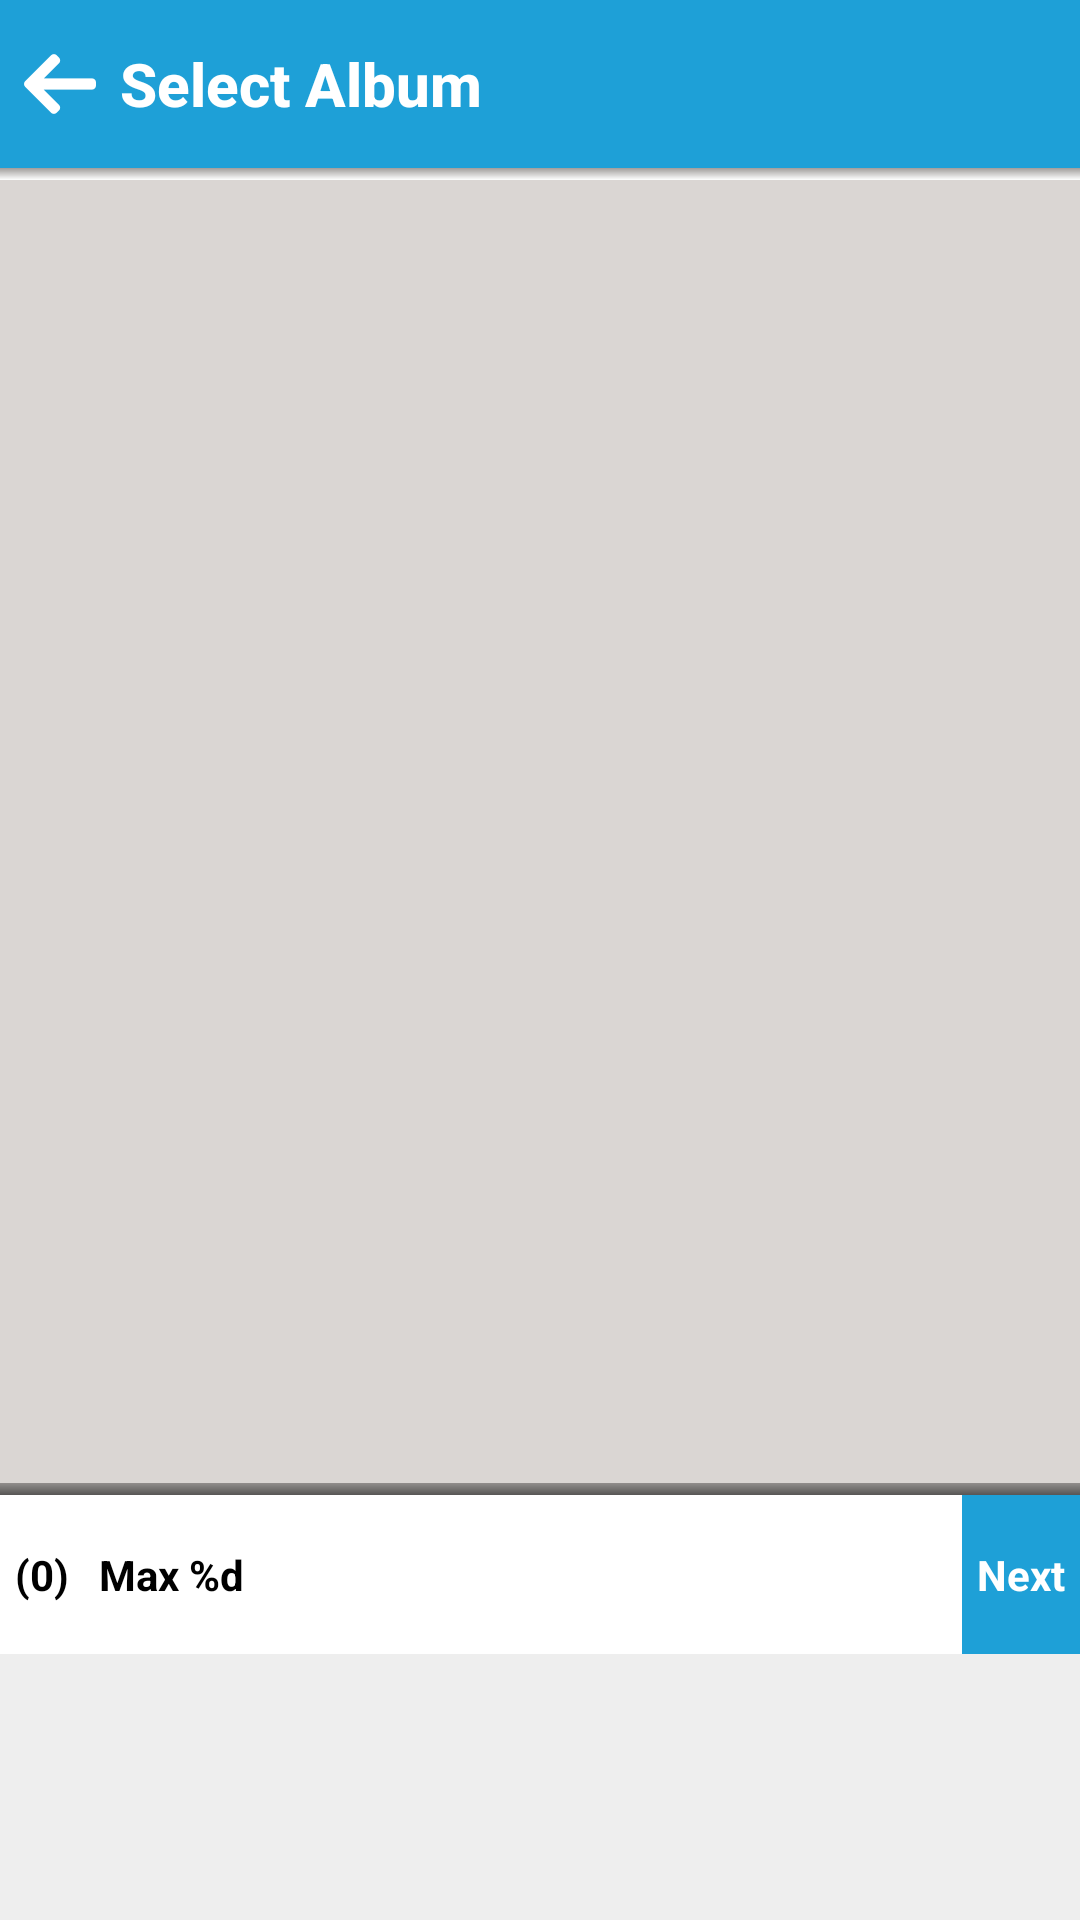

Screen size 1080px×1920px. Icon name, then its center in pixels as point (x, y):
left arrow back: point (60, 84)
